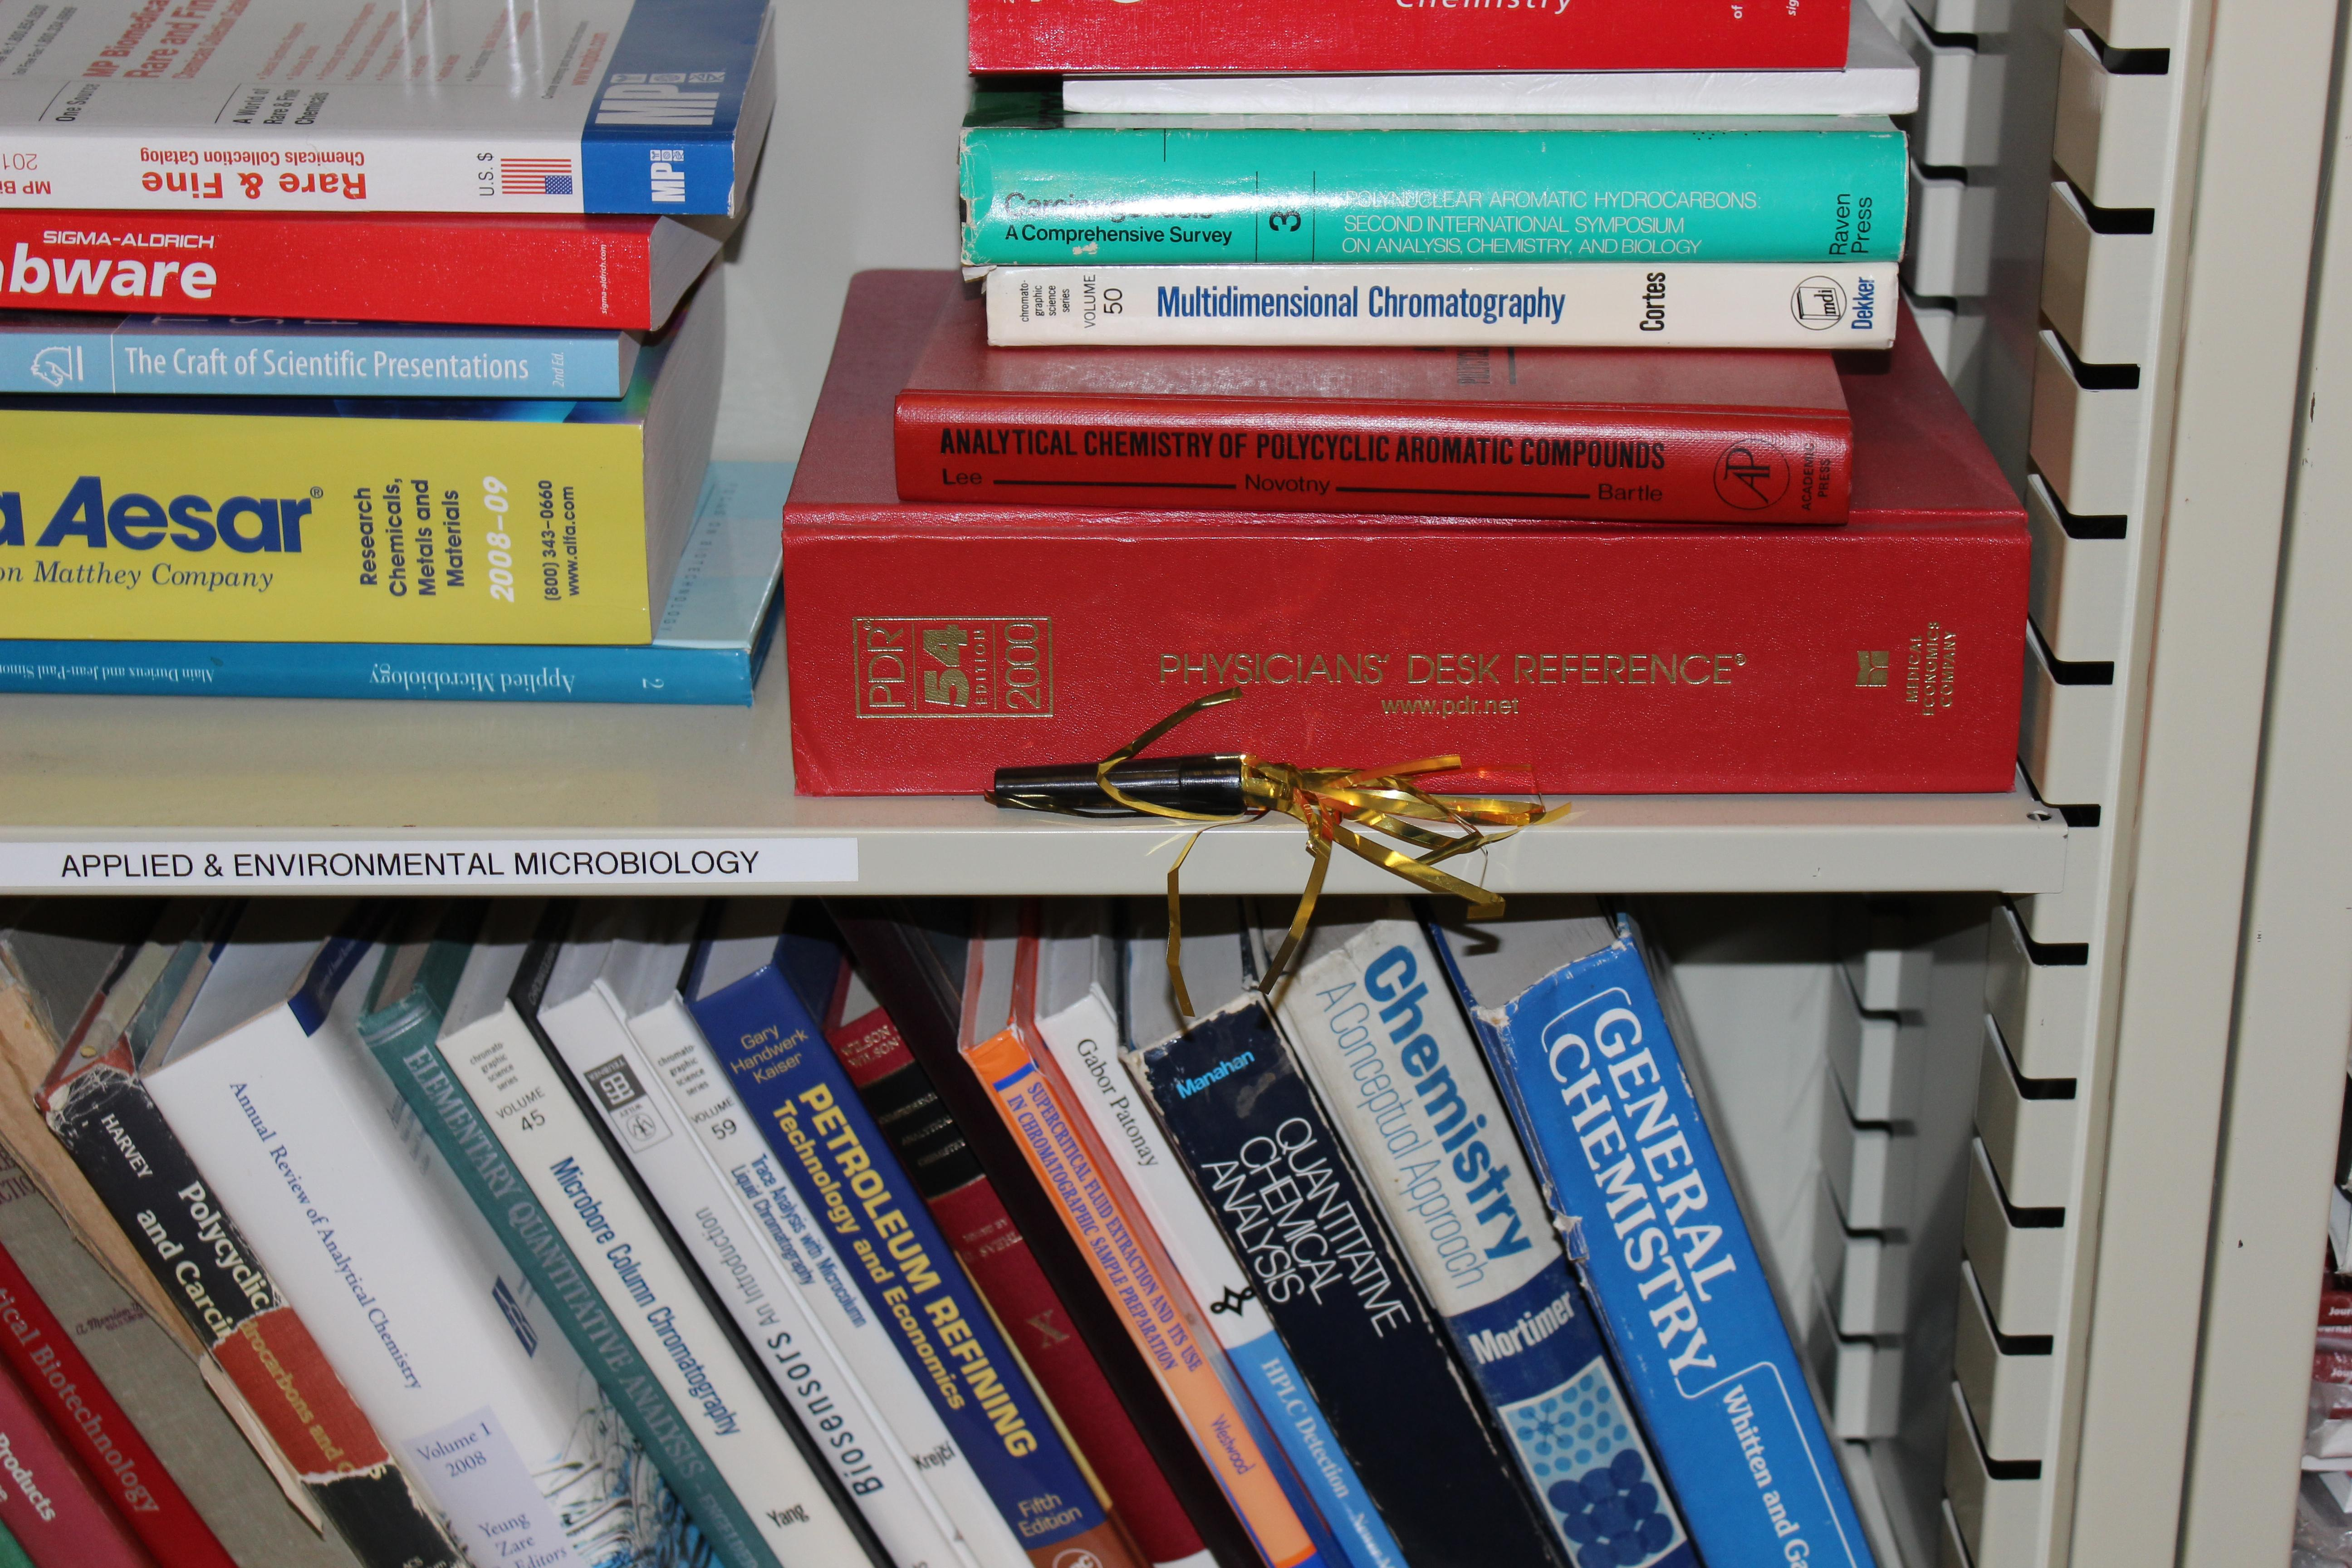partyFavor: (943, 658, 1608, 1083)
